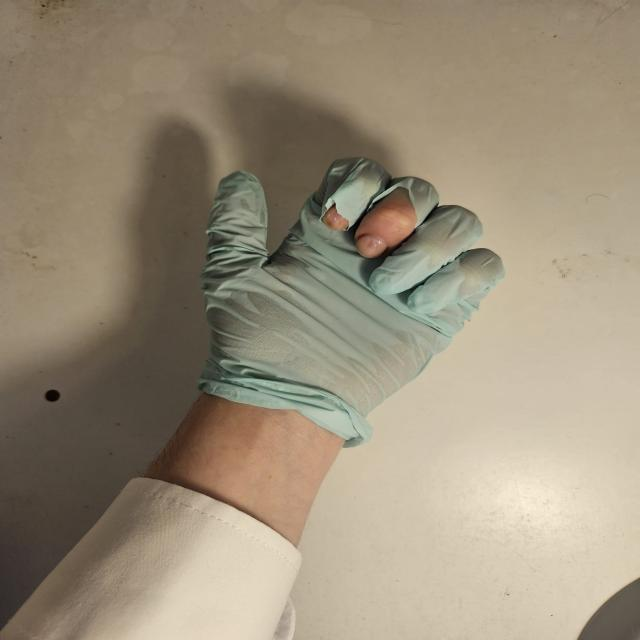gloves_damaged: (196, 158, 507, 447)
